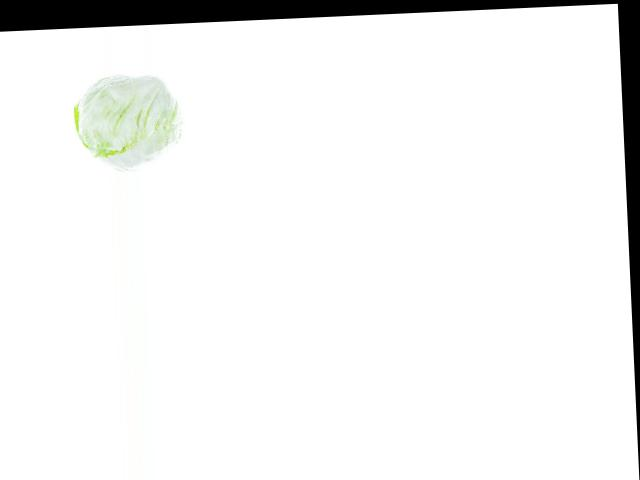lettuce: (74, 77, 183, 171)
